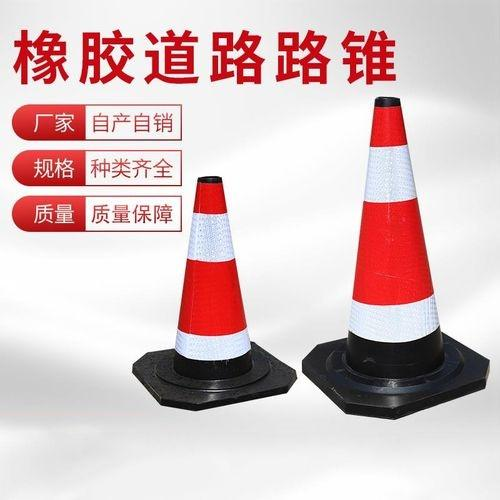cone_barrel: (322, 100, 463, 400), (151, 179, 274, 393)
